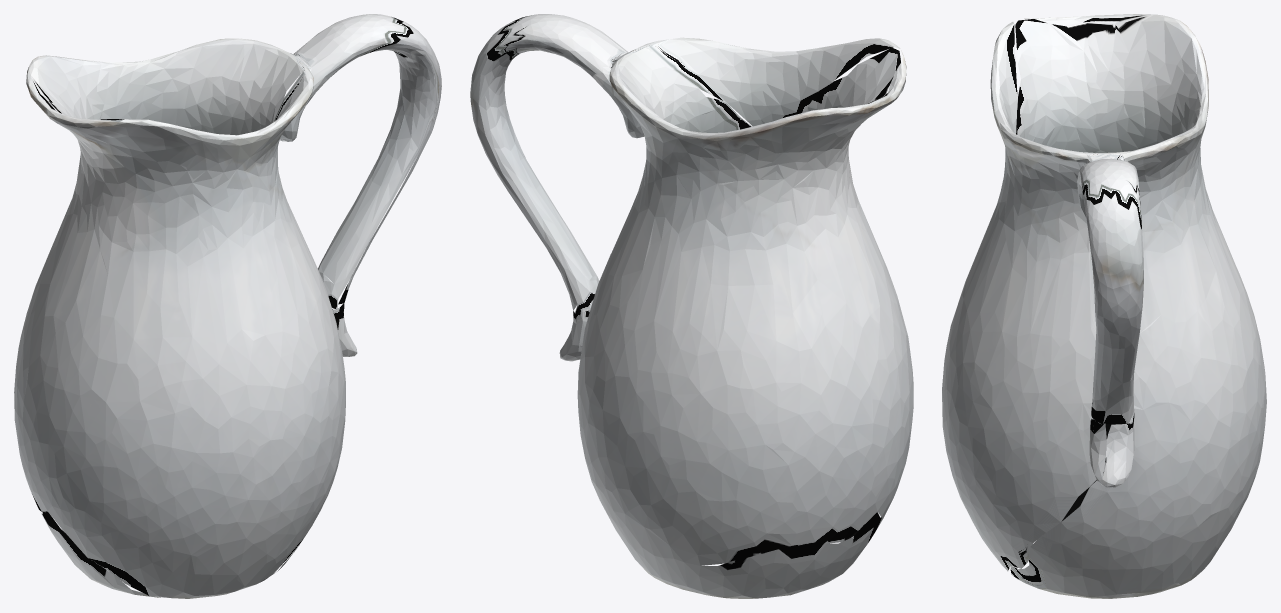
File: threshold_porcelain_pitcher_white.glb
3 views of the same model, side by side, from view 1: azimuth 30°, elevation 25°; view 2: azimuth 150°, elevation 25°; view 3: azimuth 270°, elevation 25° (orthographic). The views are drawn at different scales.
Parts seen in each view (by area): view 1: geometry_0; view 2: geometry_0; view 3: geometry_0.
Boxes of the visible parts, x1,y1,x2,y2 form: geometry_0: [14, 14, 441, 598]; geometry_0: [470, 14, 913, 598]; geometry_0: [942, 14, 1266, 598].
Size of the model in its own units: 0.2389 by 0.2782 by 0.1689.
Materials: 1 (1 with a texture image).
